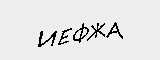А: (104, 19, 125, 43)
Е: (56, 24, 72, 50)
Ж: (87, 19, 107, 46)
И: (36, 25, 57, 50)
Ф: (71, 19, 89, 46)
